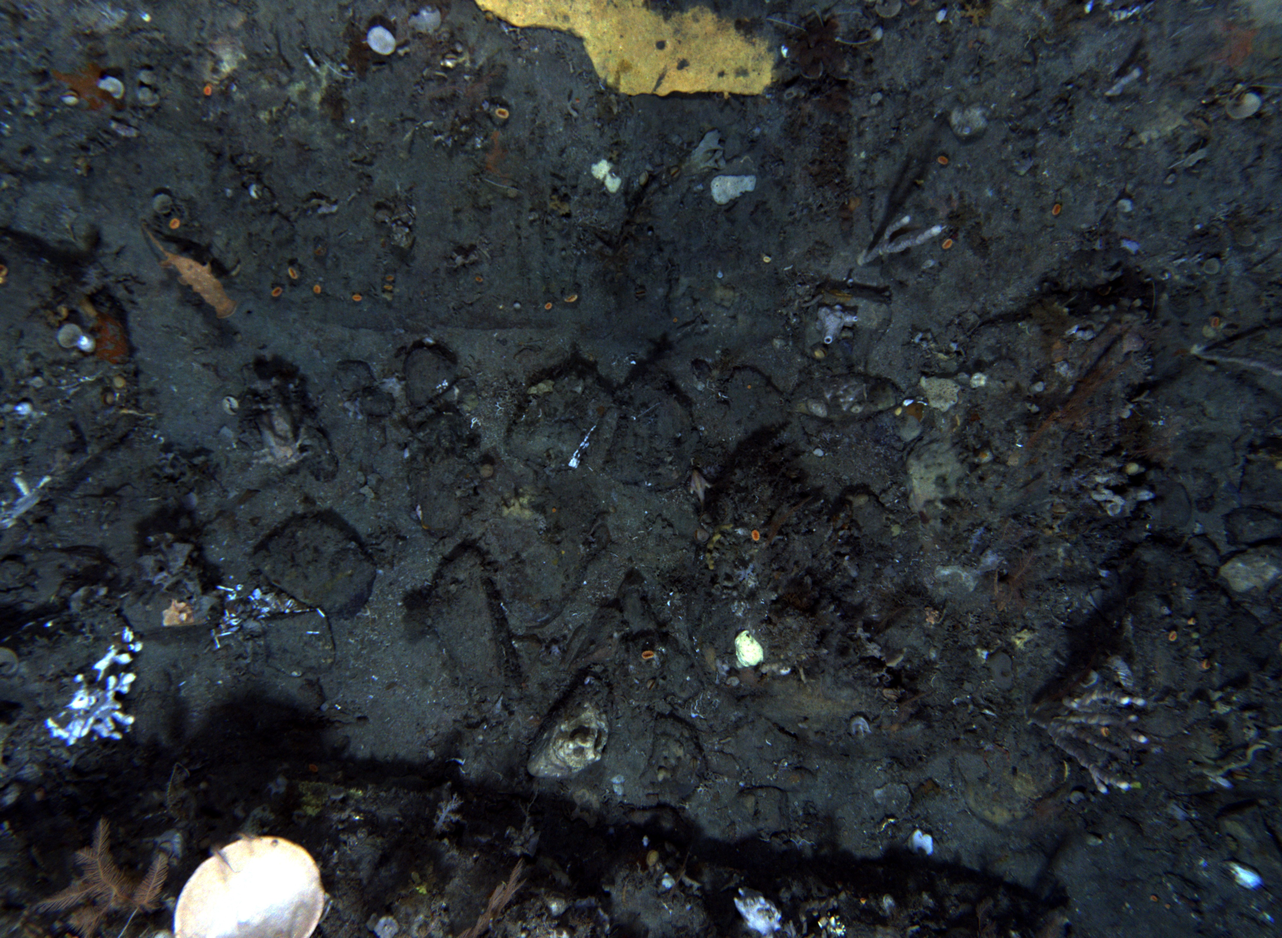Brachionichthyidae: (687, 468, 718, 519)
